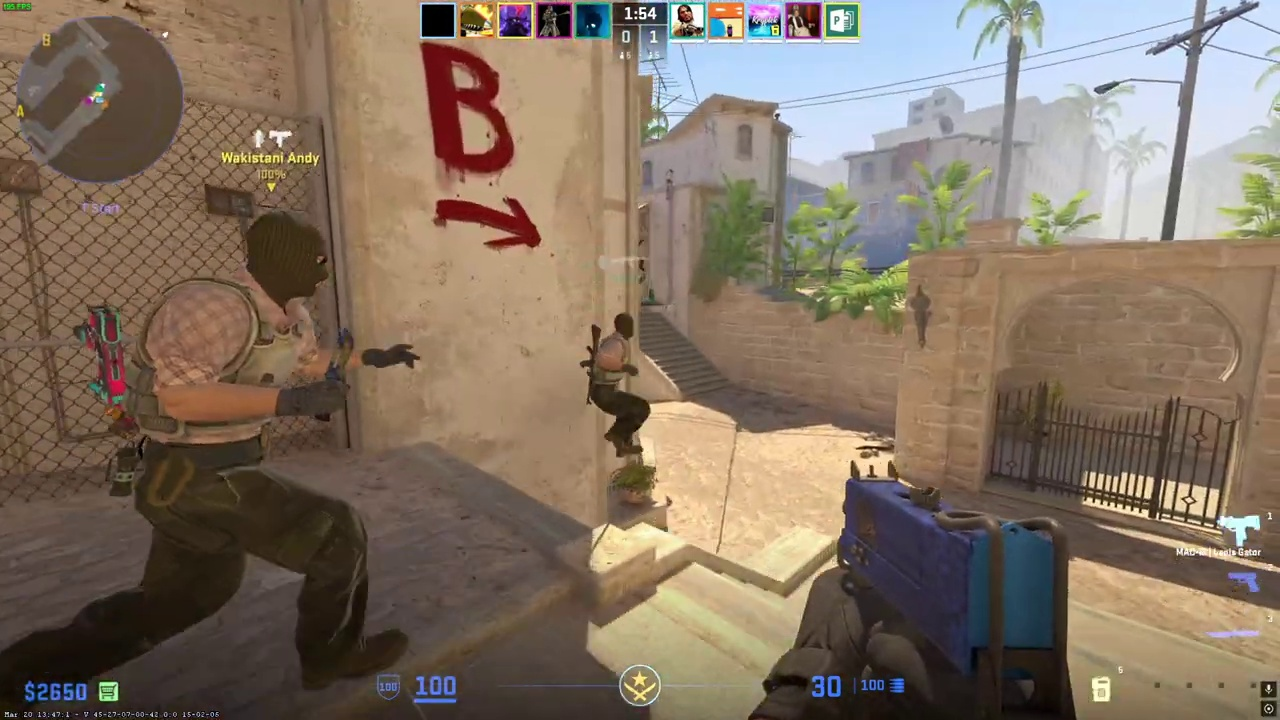Terrorist: (99, 209, 389, 699), (587, 311, 653, 459)
